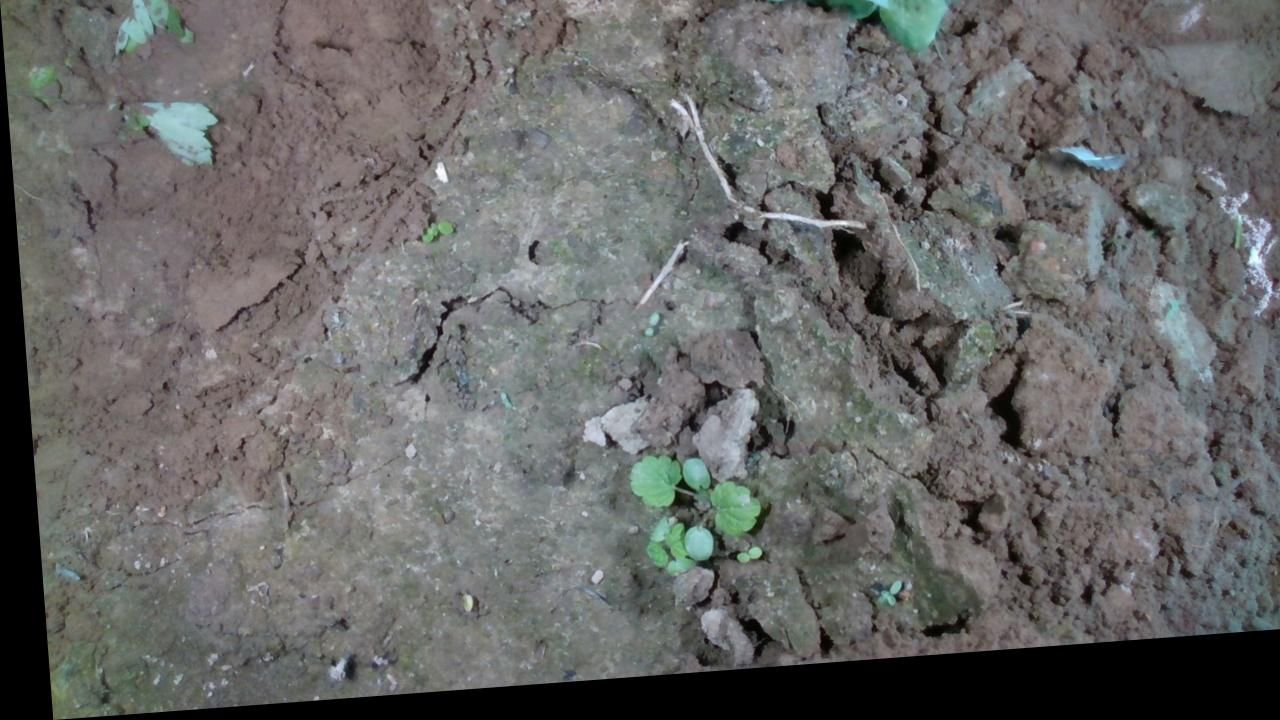weed: (413, 219, 454, 245), (636, 315, 669, 343)
